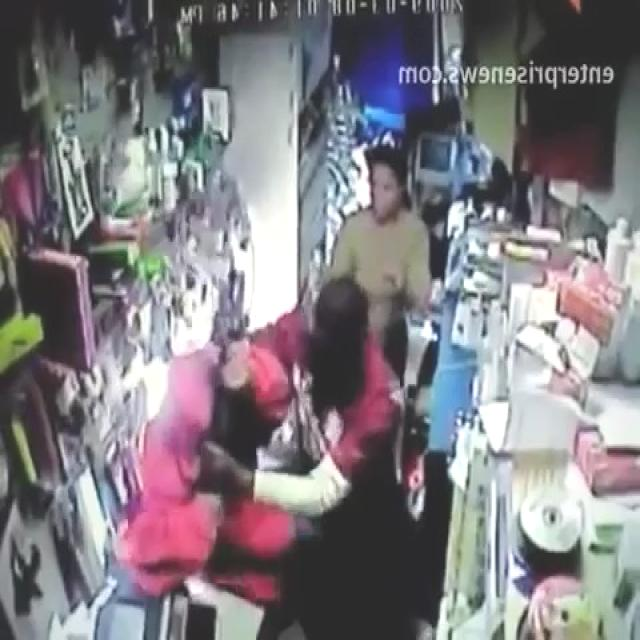fight: (120, 270, 405, 596)
